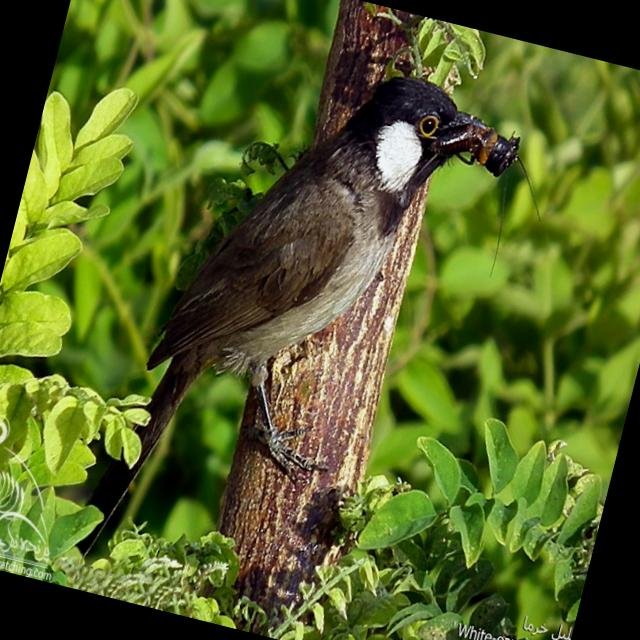bird: (68, 9, 506, 636)
